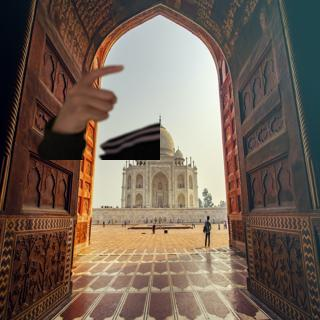WHY: (52, 61, 127, 134)
